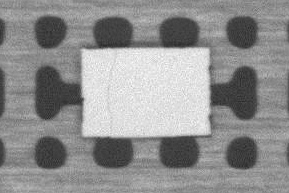DIE_CRACK: (106, 47, 117, 134)
